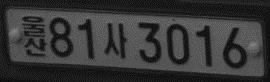0: (164, 21, 190, 65)
1: (75, 17, 95, 61), (195, 23, 214, 69)
3: (136, 21, 162, 64)
6: (222, 25, 248, 69)
8: (48, 16, 74, 58)
사: (103, 21, 129, 59)
울산_V: (20, 14, 49, 58)
